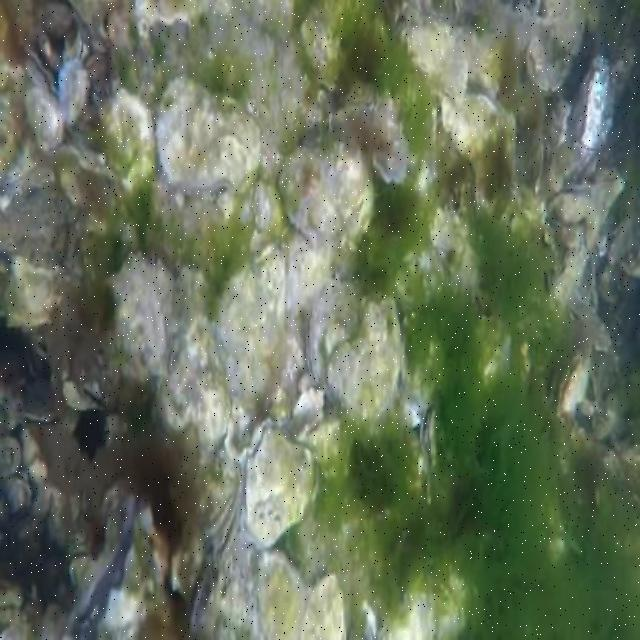Oyster-Closed: (154, 78, 261, 192), (220, 246, 287, 417), (237, 417, 317, 548), (327, 295, 405, 426), (160, 313, 228, 449), (443, 98, 516, 218), (107, 255, 176, 377), (305, 279, 361, 388), (279, 145, 340, 244), (406, 17, 467, 107), (102, 92, 155, 190), (324, 143, 374, 245), (573, 59, 616, 170), (259, 552, 307, 640), (289, 233, 330, 310), (204, 489, 241, 564), (305, 577, 346, 640), (173, 515, 203, 601), (26, 87, 63, 151), (193, 560, 225, 632), (24, 44, 58, 105), (59, 57, 89, 124), (557, 353, 588, 416), (554, 246, 587, 305), (256, 181, 286, 238), (22, 379, 62, 421), (602, 214, 632, 266), (422, 403, 438, 469), (545, 101, 569, 145), (0, 439, 23, 478), (28, 459, 47, 483)
Oyster-Open: (59, 492, 151, 640), (473, 317, 513, 383), (373, 139, 408, 187), (6, 473, 32, 514)
